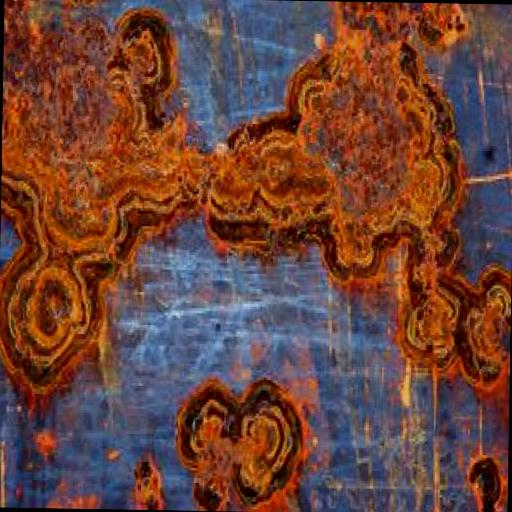segmentation: (0, 3, 512, 399), (178, 379, 308, 510), (469, 455, 506, 512), (136, 457, 166, 508)
